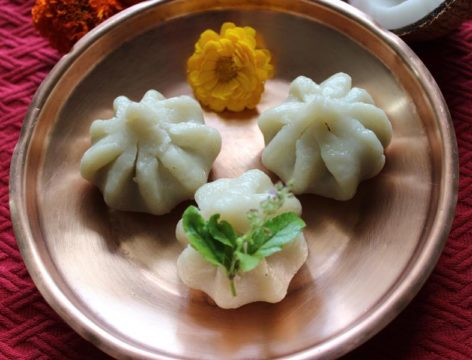modak: (164, 174, 327, 320), (259, 75, 398, 190), (85, 100, 230, 209)
